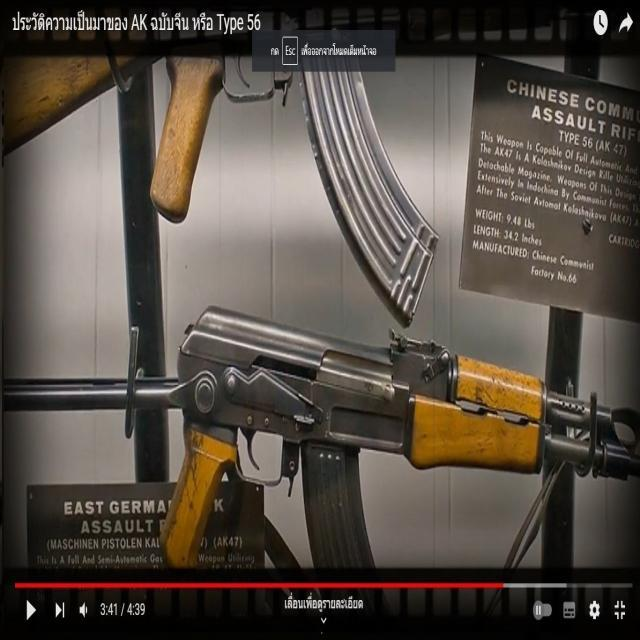ak: (119, 298, 640, 586)
